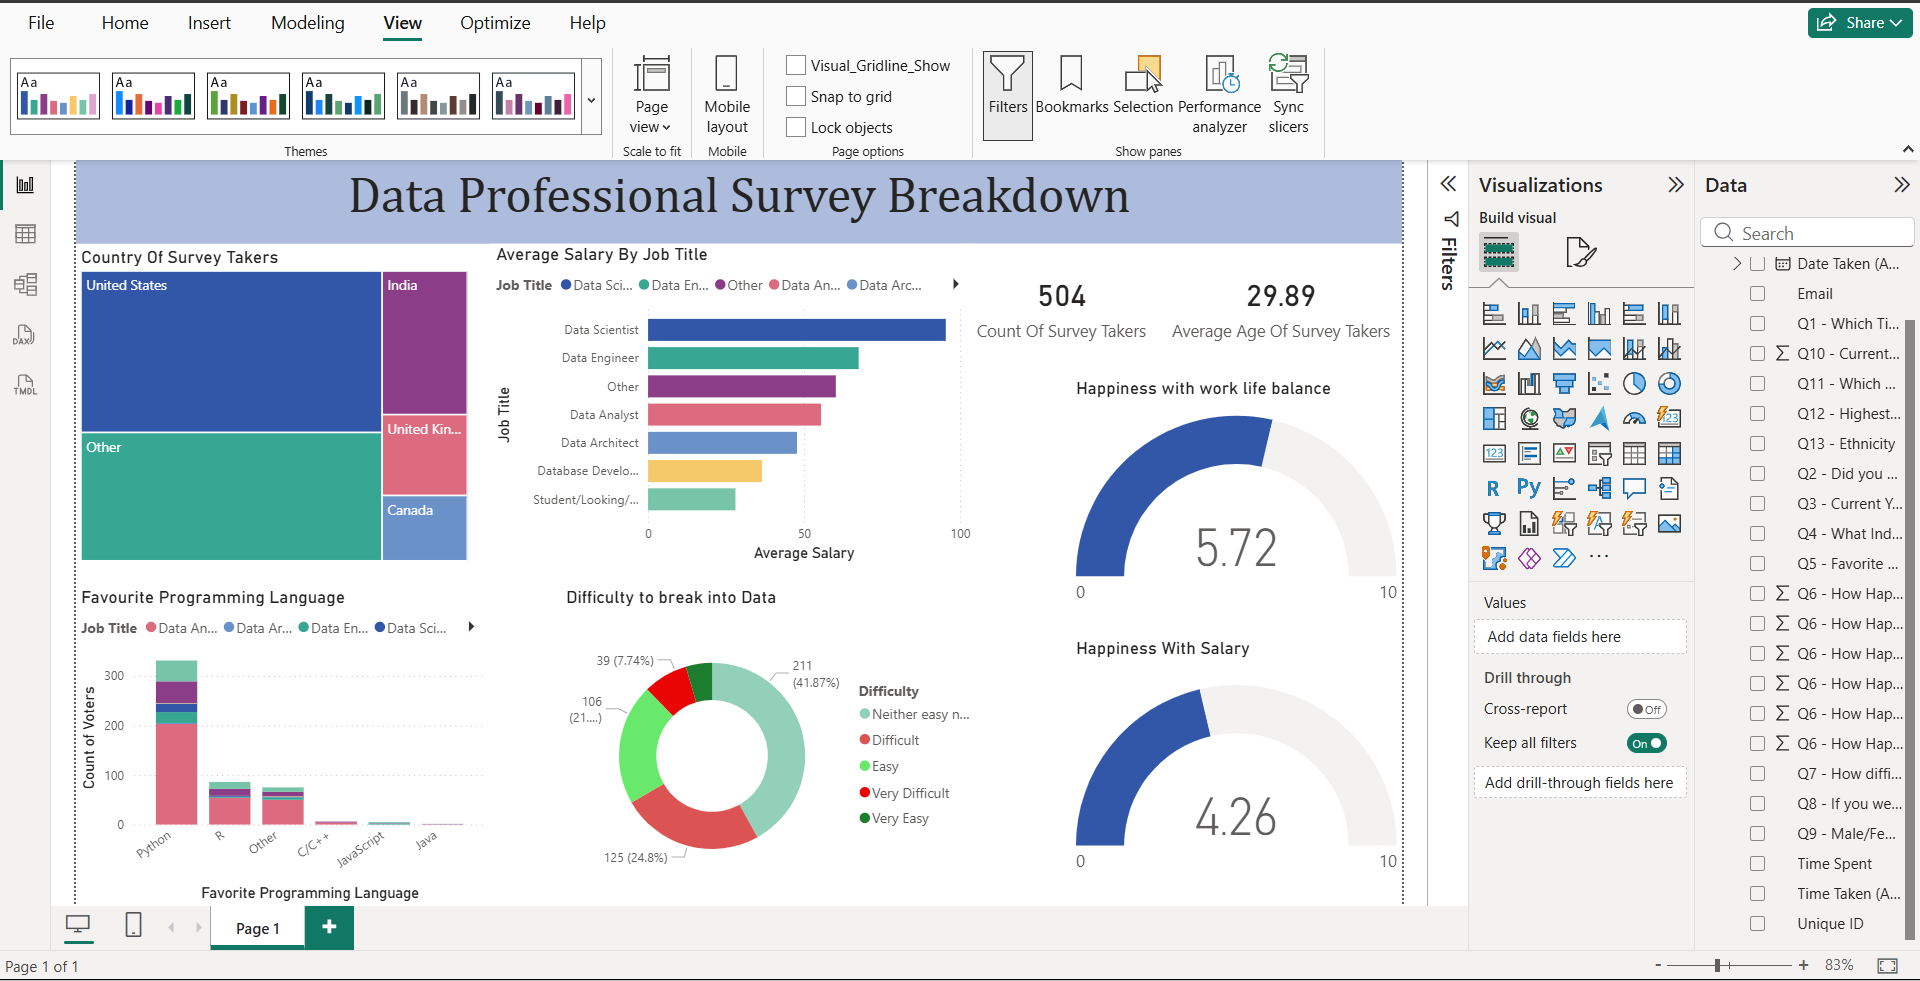

Layout of this report page (visuals, bound fields, positions):
{"tool":"powerbi","page":{"name":"Page 1","canvas":[1280,720],"ordinal":0},"visuals":[{"type":"textbox","box":[0,0,1280.3,81],"z":0},{"type":"card","fields":{"Values":["CountNonNull(Data Professional Survey.Unique ID)"]},"box":[856.3,81,189.4,118],"z":1000},{"type":"card","fields":{"Values":["Avg(Data Professional Survey.Q10 - Current Age)"]},"box":[1045.6,81,234.6,118],"z":2000},{"type":"barChart","title":"Average Salary By Job Title","fields":{"Category":["Data Professional Survey.Q1 - Which Title Best Fits your Current Role?.1"],"Y":["Avg(Data Professional Survey.Average Salary)"],"Series":["Data Professional Survey.Q1 - Which Title Best Fits your Current Role?.1"]},"box":[400.7,81,467.9,311.5],"z":3000},{"type":"columnChart","title":"Favourite Programming Language","fields":{"Category":["Data Professional Survey.Q5 - Favorite Programming Language.1"],"Y":["CountNonNull(Data Professional Survey.Unique ID)"],"Series":["Data Professional Survey.Q1 - Which Title Best Fits your Current Role?.1"]},"box":[0,411.7,400.7,308.7],"z":3001},{"type":"treemap","title":"Country Of Survey Takers","fields":{"Group":["Data Professional Survey.Q11 - Which Country do you live in?.1"],"Values":["CountNonNull(Data Professional Survey.Q1 - Which Title Best Fits your Current Role?.1)"]},"box":[0,83.7,382.8,308.7],"z":3002},{"type":"gauge","title":"Happiness with work life balance","fields":{"Y":["Avg(Data Professional Survey.Q6 - How Happy are you in your Current Position with the following? (Work/Life Balance))"],"MinValue":["Min(Data Professional Survey.Q6 - How Happy are you in your Current Position with the following? (Work/Life Balance))"],"MaxValue":["Max(Data Professional Survey.Q6 - How Happy are you in your Current Position with the following? (Work/Life Balance))1"]},"box":[960.6,209.9,319.7,241.5],"z":3003},{"type":"gauge","title":"Happiness With Salary","fields":{"Y":["Avg(Data Professional Survey.Q6 - How Happy are you in your Current Position with the following? (Salary))"],"MinValue":["Min(Data Professional Survey.Q6 - How Happy are you in your Current Position with the following? (Salary))"],"MaxValue":["Max(Data Professional Survey.Q6 - How Happy are you in your Current Position with the following? (Salary))1"]},"box":[960.6,461.1,319.7,259.3],"z":3004},{"type":"donutChart","title":"Difficulty  to break into Data","fields":{"Category":["Data Professional Survey.Q7 - How difficult was it for you to break into Data?"],"Y":["CountNonNull(Data Professional Survey.Q7 - How difficult was it for you to break into Data?)"]},"box":[467.9,411.7,413,308.7],"z":3005}]}

Visuals, with their boxes on the page's 1280x720 design canvas (x1, y1, x2, y2). These are canvas units, not pixel positions in the 1920x981 screenshot, which may show the page scaled, cropped or inside an application window:
textbox: BBox(0, 0, 1280, 81)
card - CountNonNull(Data Professional Survey.Unique ID): BBox(856, 81, 1046, 199)
card - Avg(Data Professional Survey.Q10 - Current Age): BBox(1046, 81, 1280, 199)
"Average Salary By Job Title" barChart: BBox(401, 81, 869, 392)
"Favourite Programming Language" columnChart: BBox(0, 412, 401, 720)
"Country Of Survey Takers" treemap: BBox(0, 84, 383, 392)
"Happiness with work life balance" gauge: BBox(961, 210, 1280, 451)
"Happiness With Salary" gauge: BBox(961, 461, 1280, 720)
"Difficulty  to break into Data" donutChart: BBox(468, 412, 881, 720)
